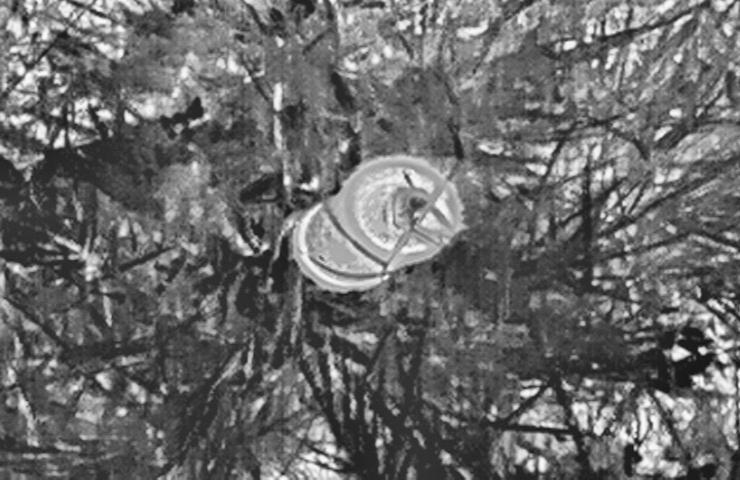landmines: (284, 140, 472, 306)
